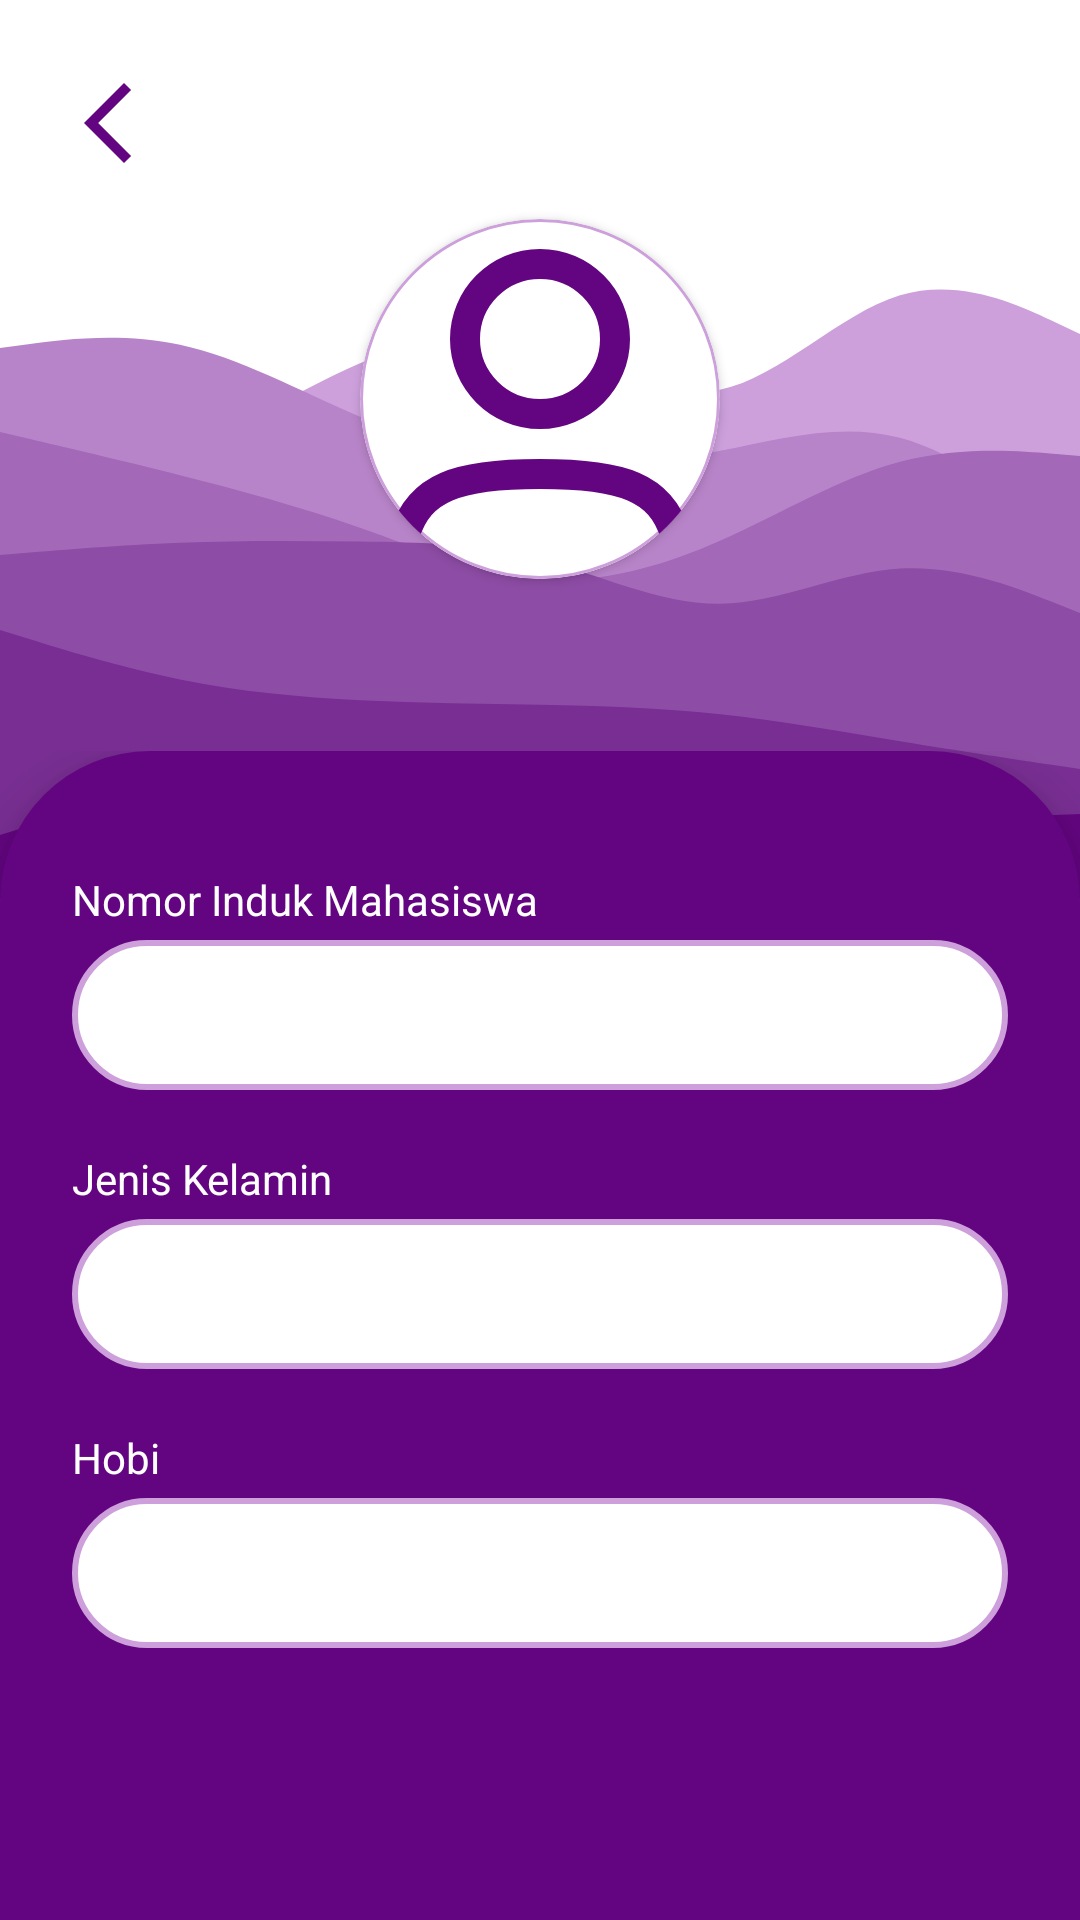

Named icons in this screenshot (1080×1920) and their centers, point (x, y):
arrow back: point (107, 123)
profile: point (540, 399)
